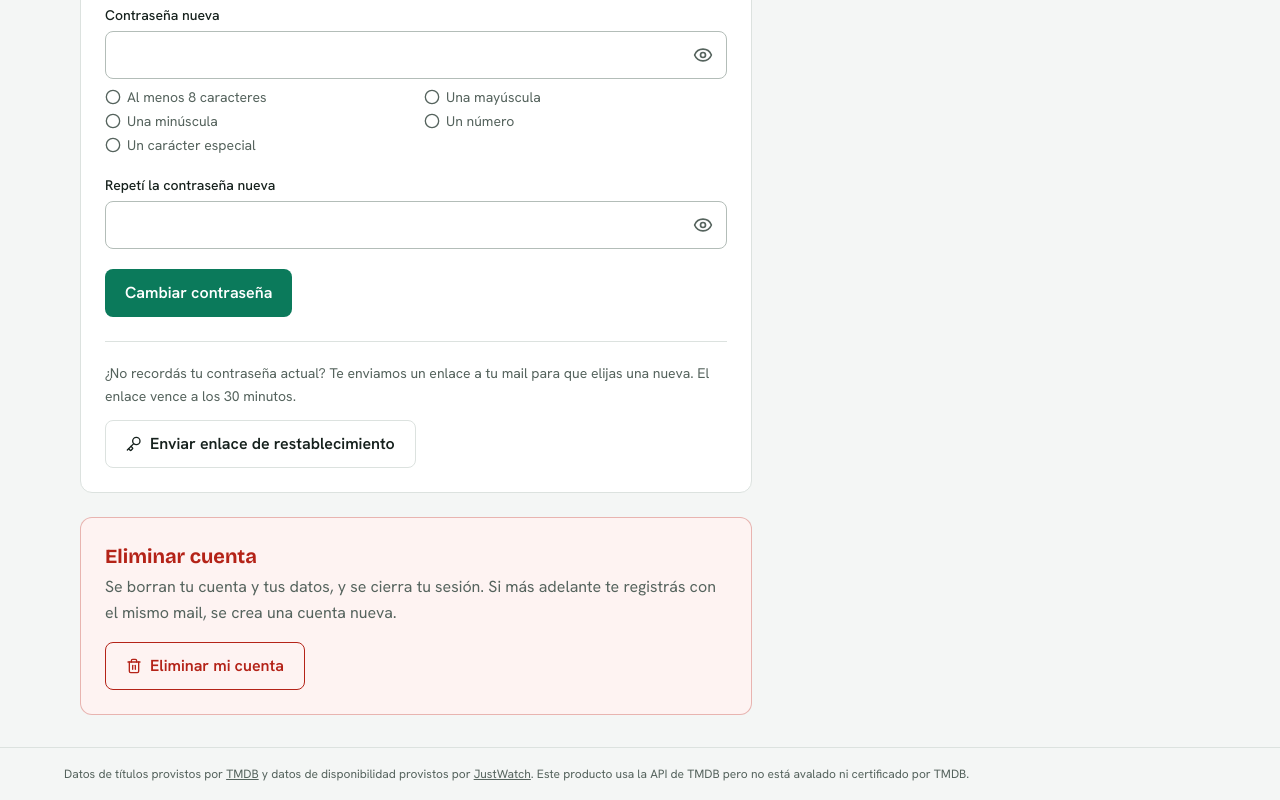
Cuenta: eliminar cuenta › cancelar no cambia nada
(page scrolled)
What coordinates should you click on to do the following:
click the button "Eliminar mi cuenta"
I would click on:
 (205, 666)
Its box is [105,642,305,690].
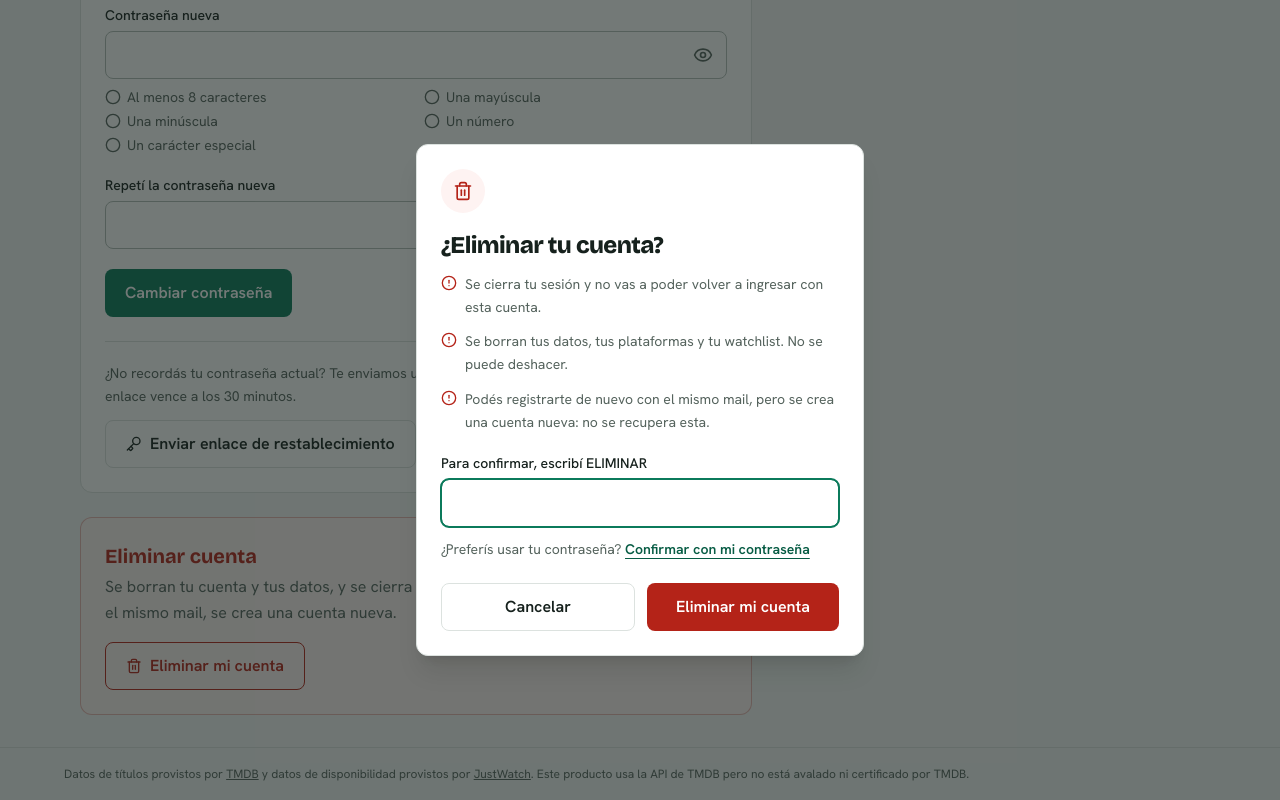
What coordinates should you click on to do the following:
click the button "Cancelar"
I would click on:
 (538, 607)
Its box is [441,583,635,631].
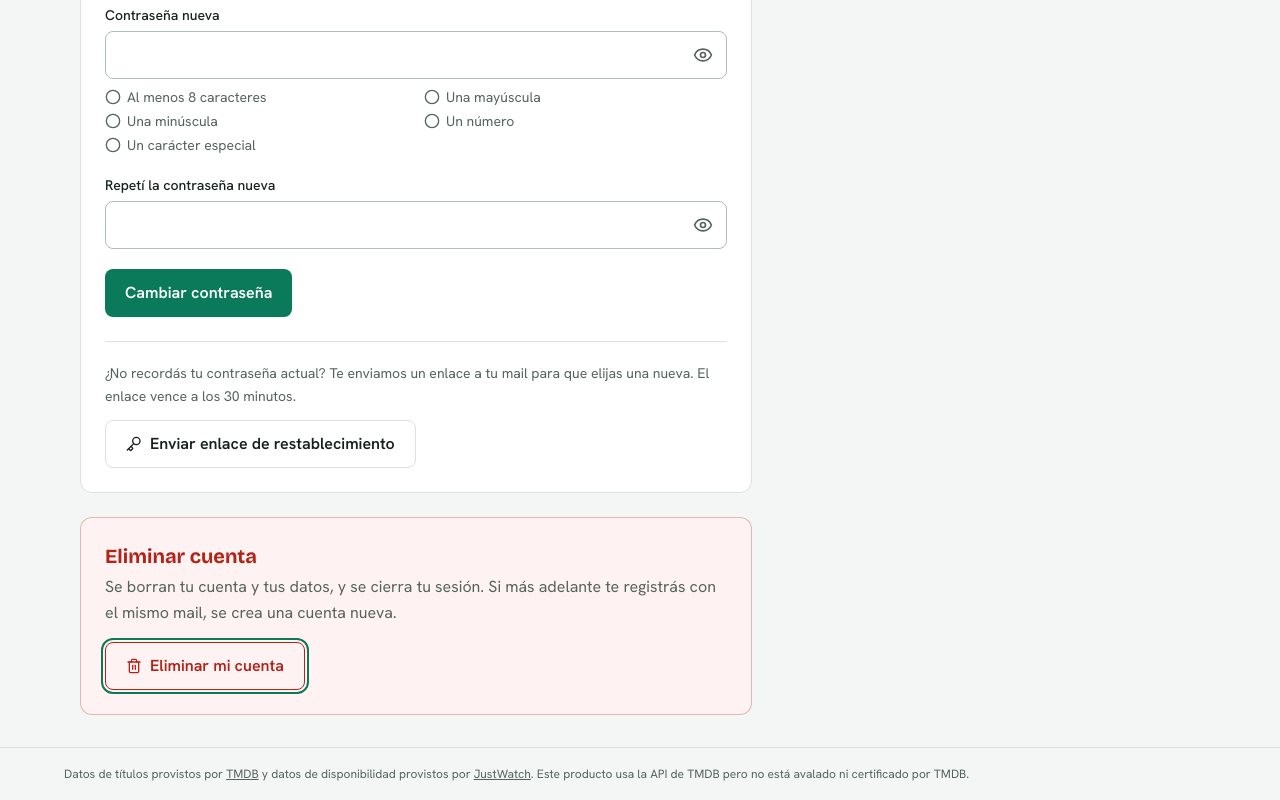
expect the dialog is gone: met
